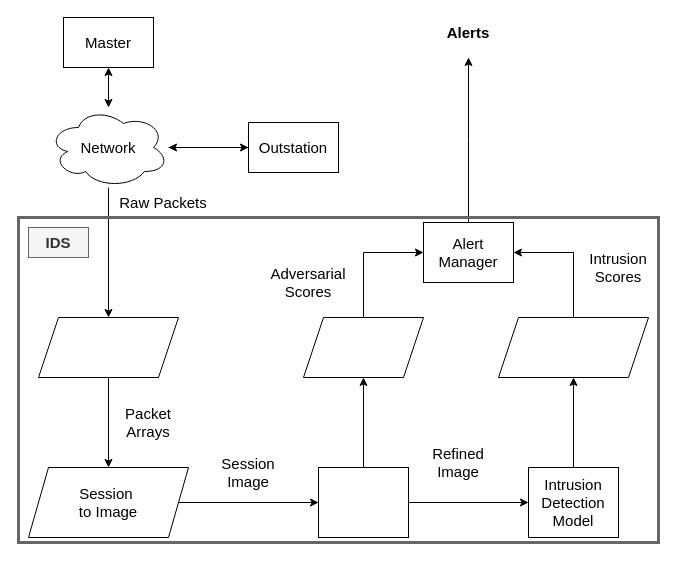
Image size: 677x561. Some labels were removed from this diagram. Each missing label, with the centre of its shape:
Adversarial Blocker: the point at 363,502
Adversarial Scoring: the point at 363,347
Intrusion Scoring: the point at 573,347
Packets to Array: the point at 108,347
